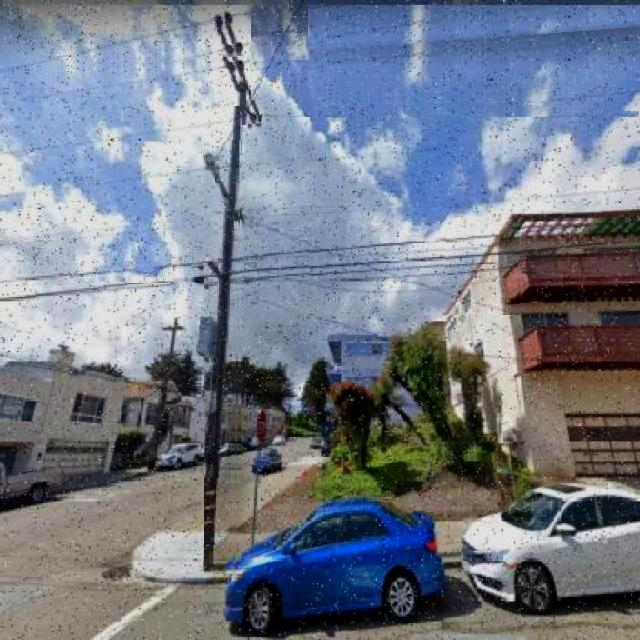crossarm: (214, 35, 259, 125), (205, 155, 246, 224)
pole: (204, 106, 242, 574)
transformer: (196, 318, 217, 357)
wire: (0, 5, 397, 74), (244, 219, 519, 315), (2, 235, 503, 283), (237, 286, 378, 338), (1, 272, 227, 302), (251, 0, 307, 100), (261, 107, 640, 117), (238, 264, 536, 274), (237, 274, 524, 284)
